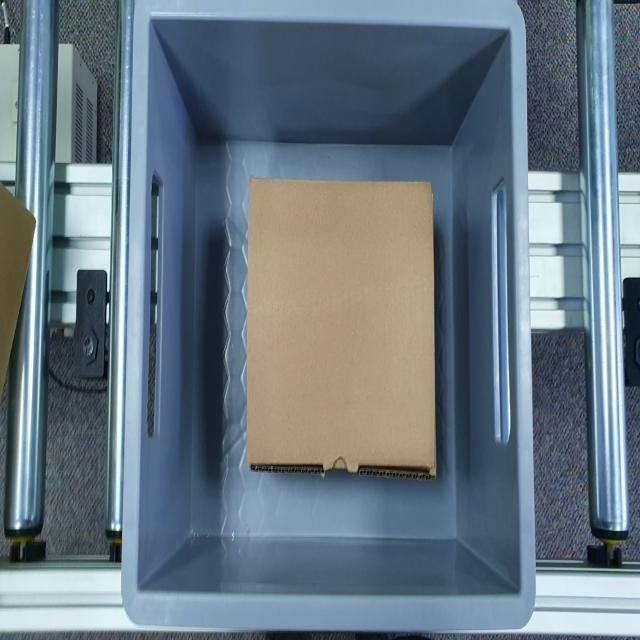box: (249, 177, 437, 486)
